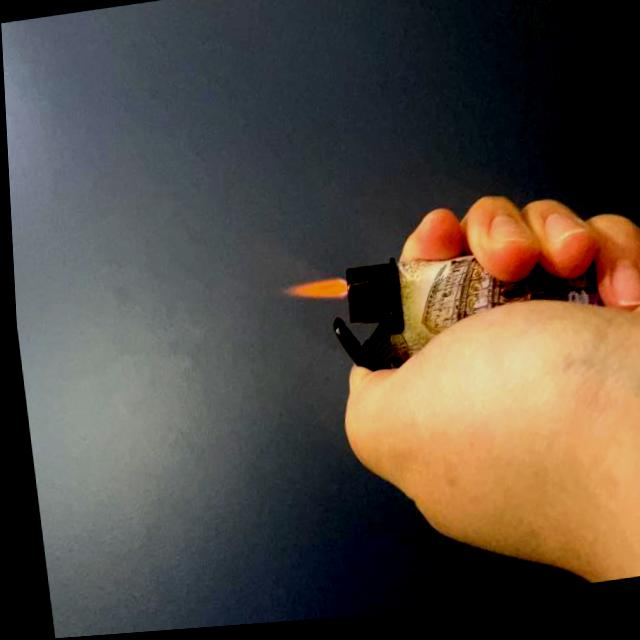Fire: (272, 274, 347, 311)
